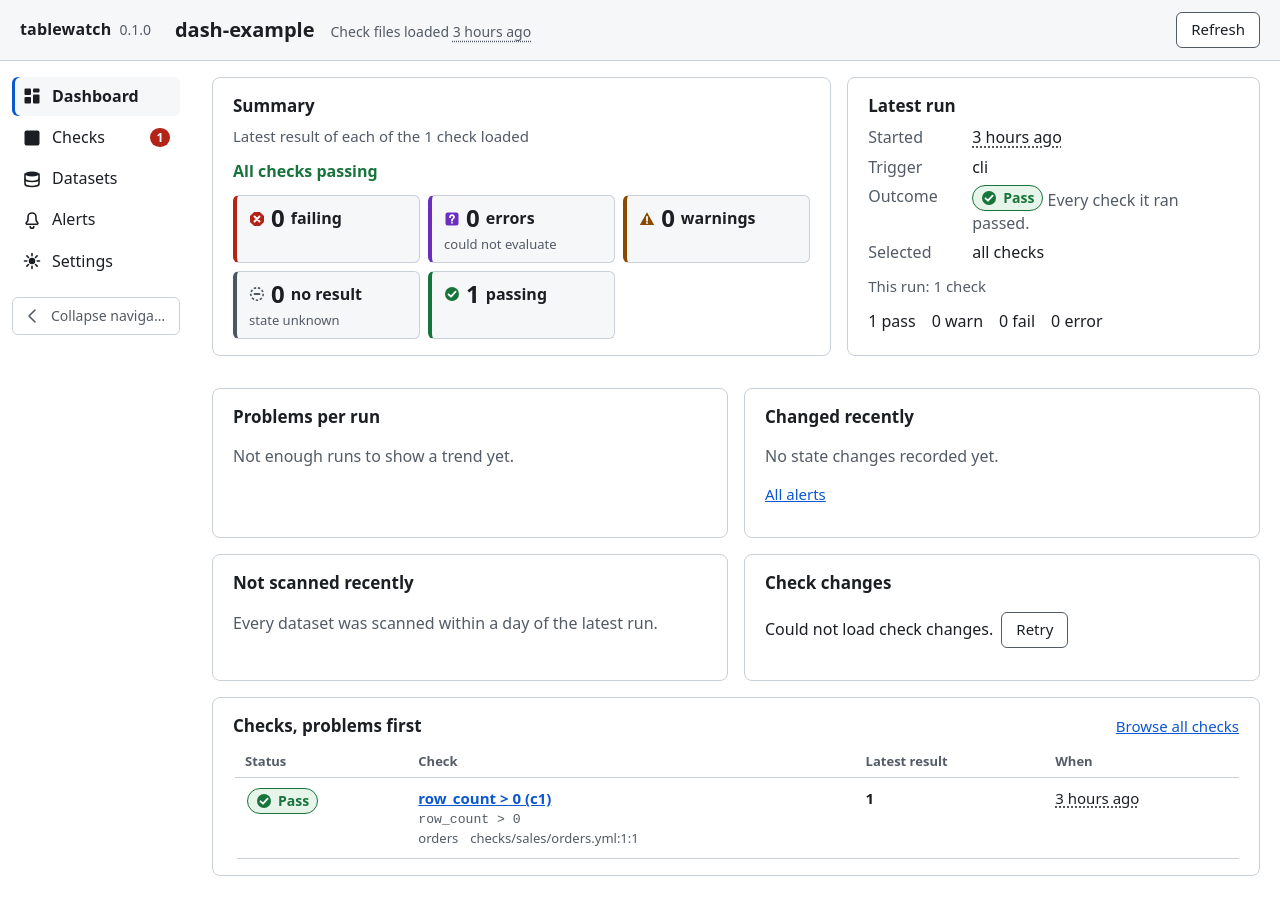
Test case: page: failure isolation (K-D5) › a panel's Retry recovers it and keeps the check table
Click the button "Retry": (1035, 630) [1001,612,1068,648]
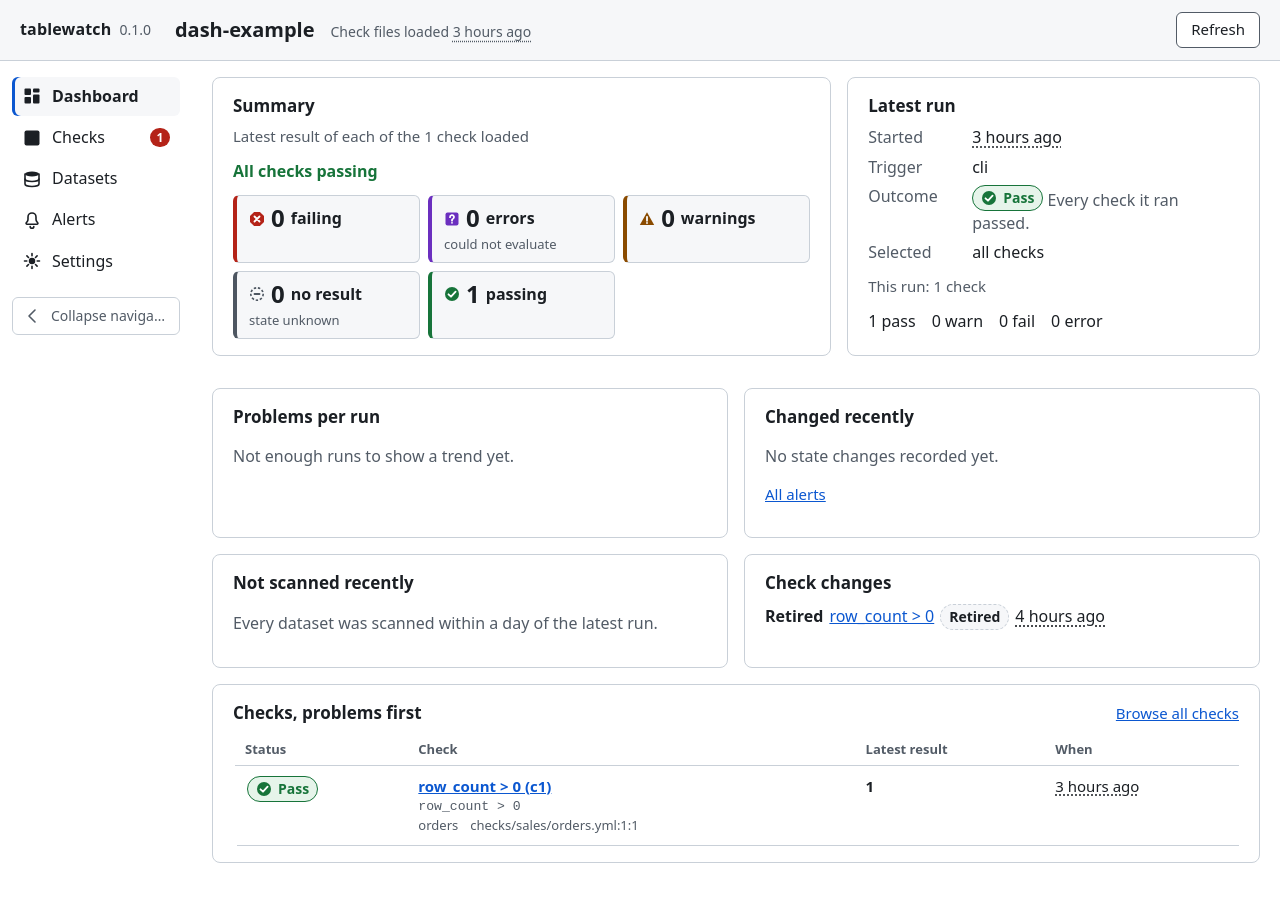
Expected: the table is shown, [233,734,1239,846]
Now the message "Could not load check changes. Retry" is gone
Now the list item "Retired row_count > 0 Retired 4 hours ago" is shown, box [765,604,1105,630]
